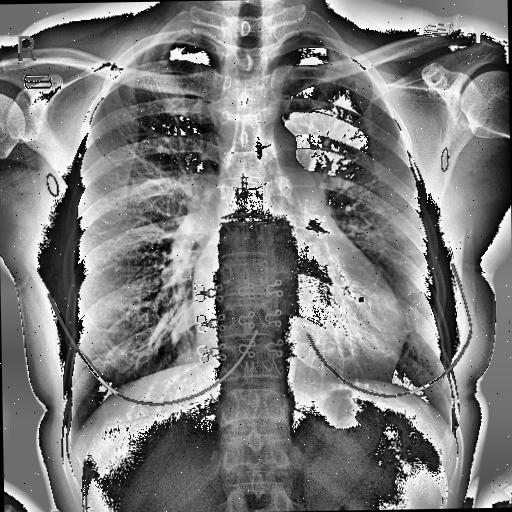11- Pleural thickening: (278, 30, 324, 37)
3- Cardiomegaly: (192, 264, 408, 426), (186, 255, 412, 382), (183, 283, 414, 390)
